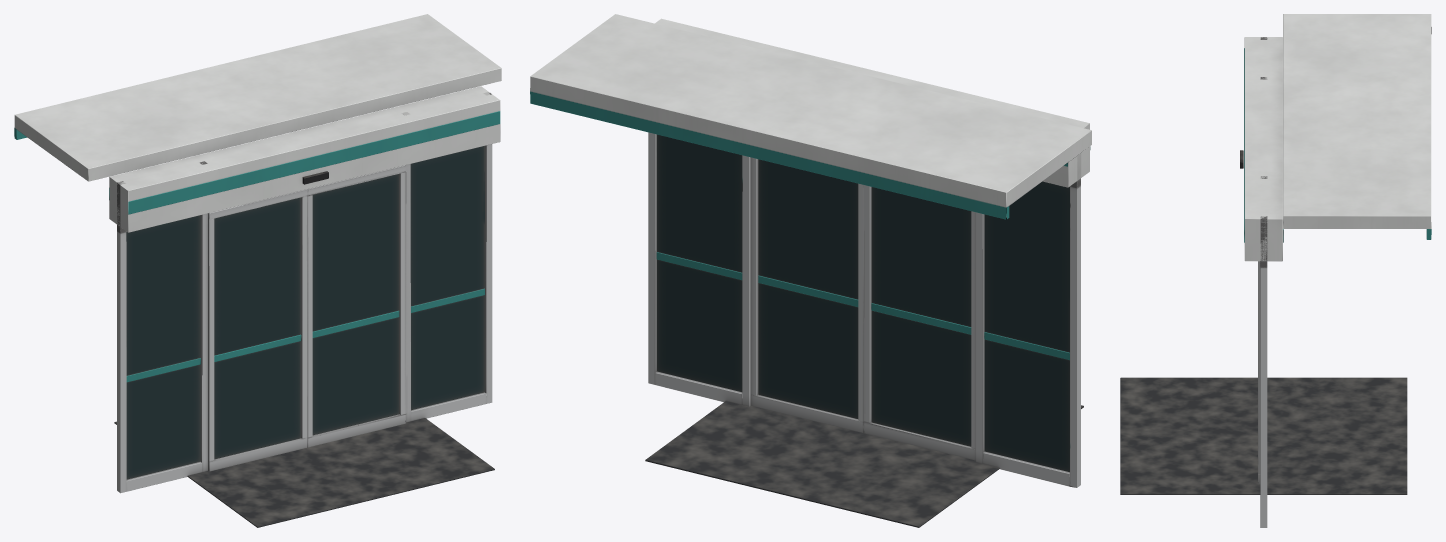
File: HospitalDoor.fbx
3 views of the same model, side by side, from view 1: azimuth 30°, elevation 25°; view 2: azimuth 150°, elevation 25°; view 3: azimuth 270°, elevation 25° (orthographic). The views are drawn at different scales.
Parts seen in each view (by area): view 1: Body_LOD0, Door_L_LOD0, Door_R_LOD0; view 2: Body_LOD0, Door_R_LOD0, Door_L_LOD0; view 3: Body_LOD0, Door_R_LOD0.
Part boxes in pixels (<box>): Body_LOD0: <box>14,14,501,527</box>; Door_L_LOD0: <box>208,189,307,471</box>; Door_R_LOD0: <box>307,165,406,447</box>; Body_LOD0: <box>530,14,1091,527</box>; Door_R_LOD0: <box>751,157,863,433</box>; Door_L_LOD0: <box>863,185,975,460</box>; Body_LOD0: <box>1120,14,1431,527</box>; Door_R_LOD0: <box>1258,261,1260,483</box>.
Size of what is drawn, in the model's own units: 4 by 2.97 by 2.6.
Materials: 1 (1 with a texture image).
